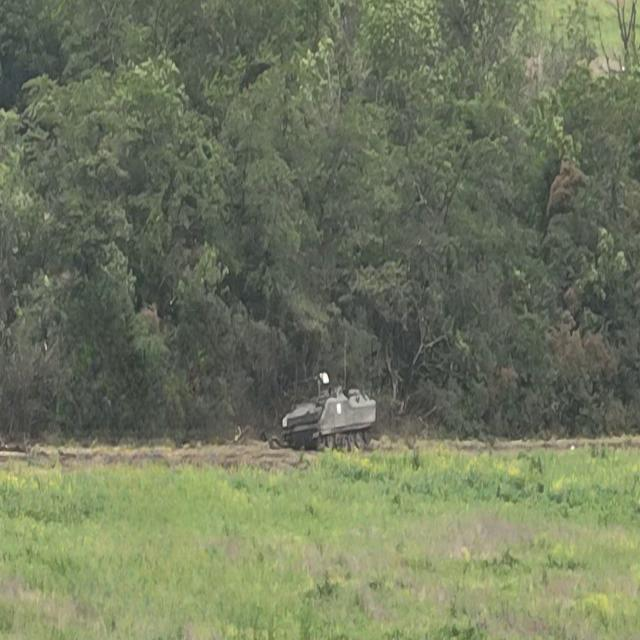APC: (283, 364, 379, 452)
